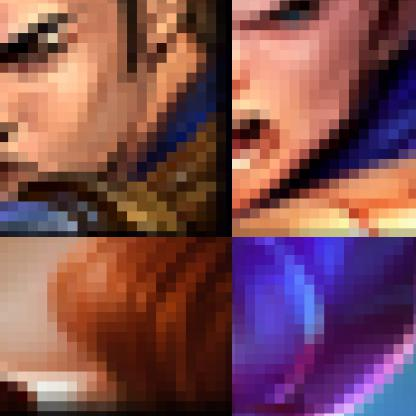Garen: (232, 0, 415, 236)
Khaundefinedzix: (232, 237, 415, 415)
Miss Fortune: (0, 237, 231, 415)
Xin Zhao: (0, 0, 231, 236)
